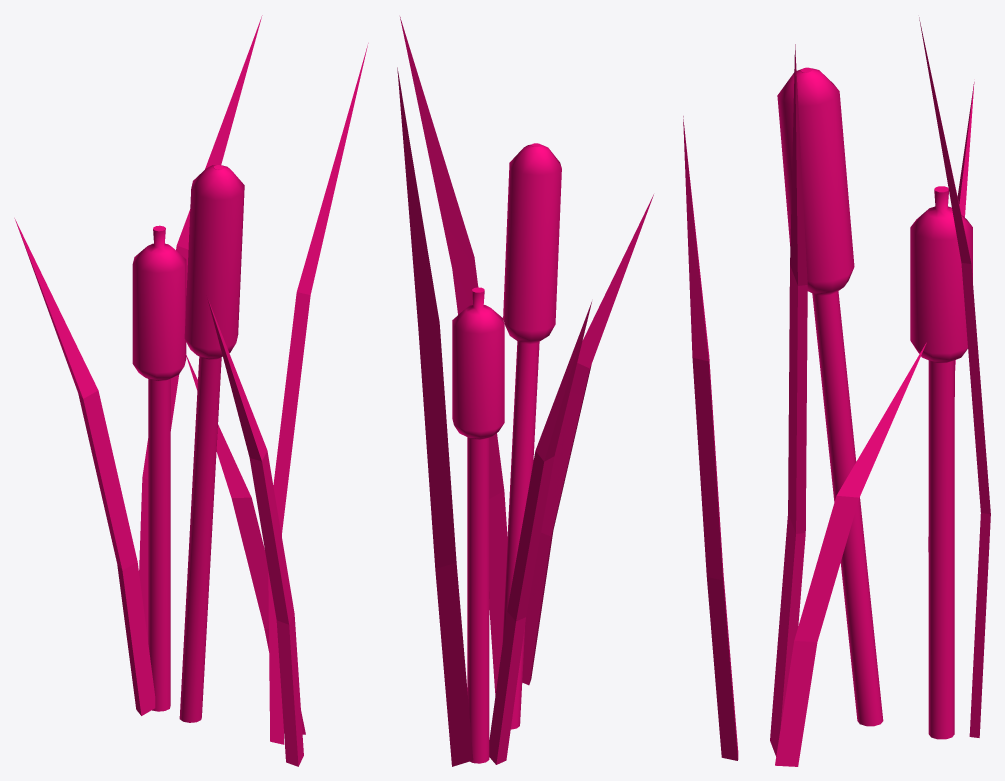
Rendered from SM_SS_Reeds_1.fbx.
The picture shows the model from 3 angles, left to right: view 1: azimuth 30°, elevation 25°; view 2: azimuth 150°, elevation 25°; view 3: azimuth 270°, elevation 25°; orthographic projection. The views are drawn at different scales.
Parts seen in each view (by area): view 1: SM_SS_Reeds_1; view 2: SM_SS_Reeds_1; view 3: SM_SS_Reeds_1.
Part boxes in pixels (x1,y1,x2,y2): SM_SS_Reeds_1: (14,15,368,766); SM_SS_Reeds_1: (397,17,653,766); SM_SS_Reeds_1: (683,17,990,766).
Bounding box in the file's own units: 34.43 × 29.2 × 80.78.
